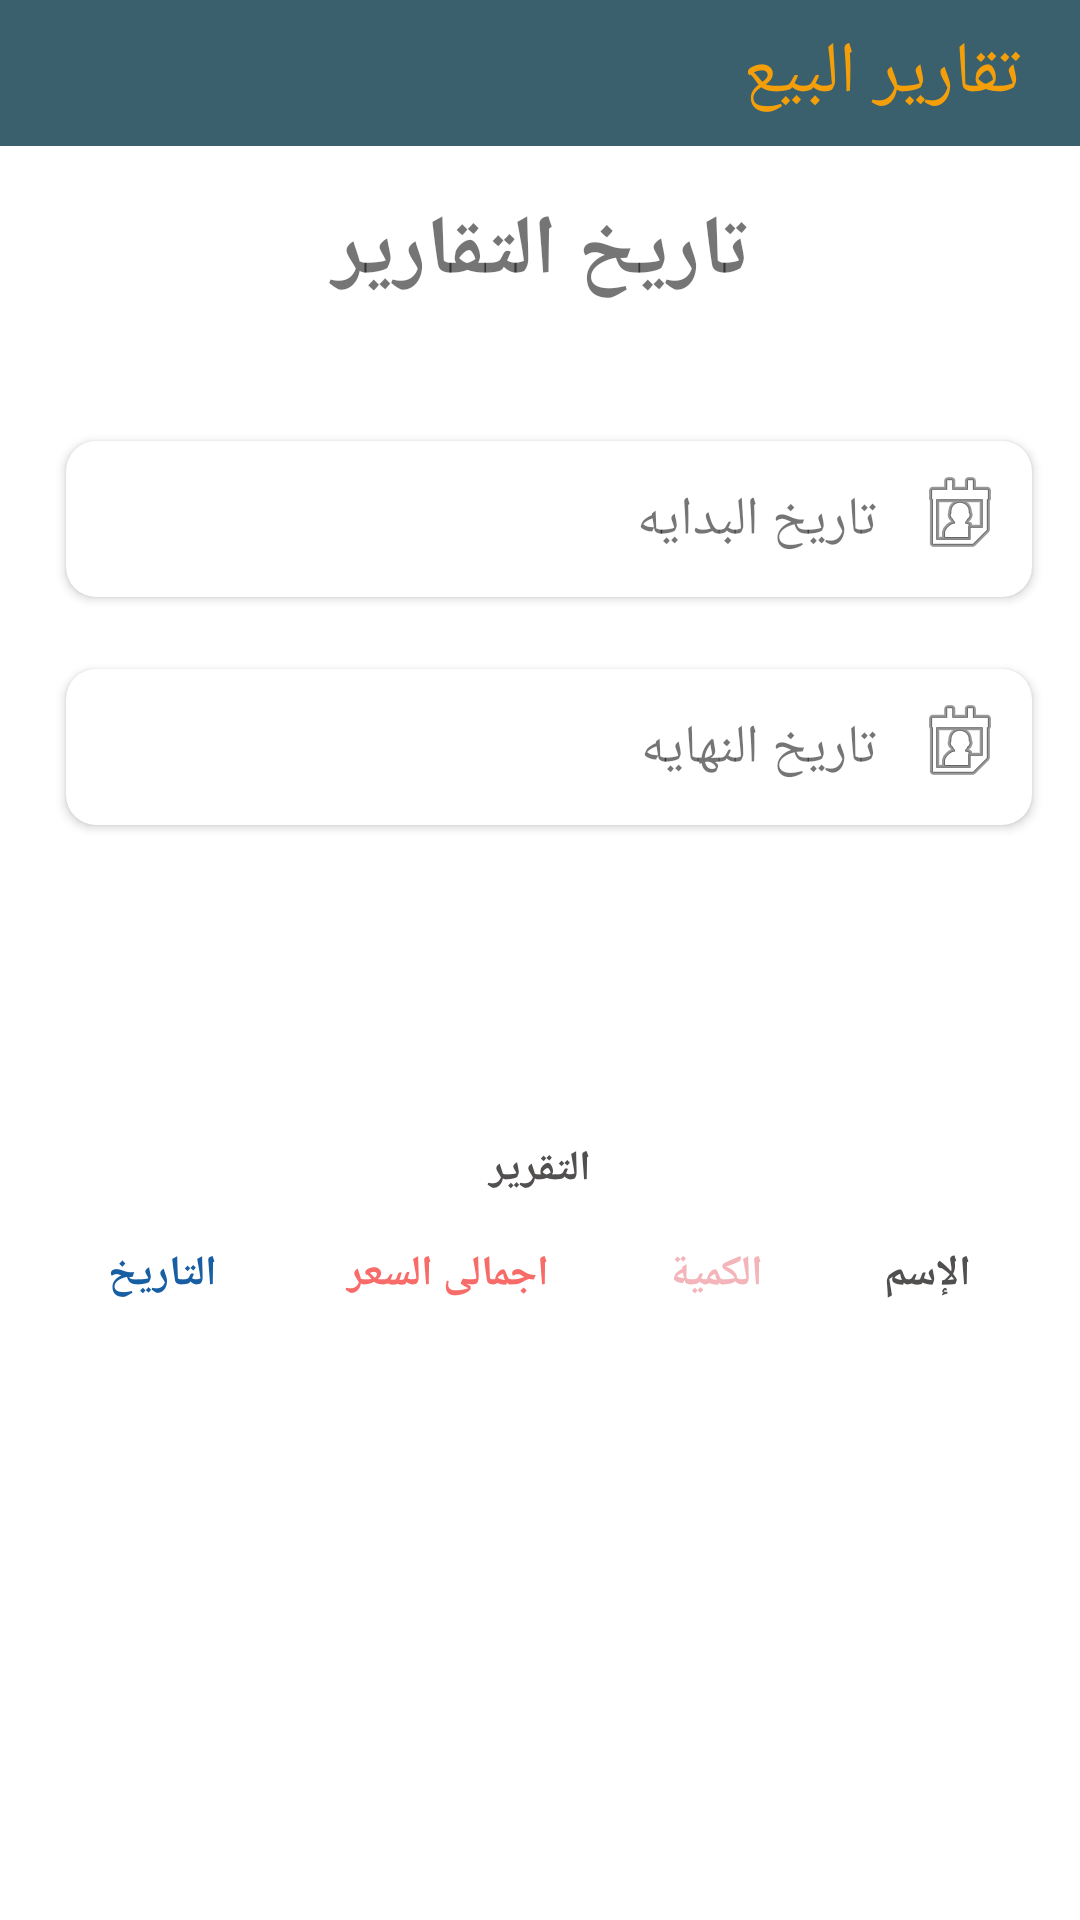

Named icons in this screenshot (1080×1920) and their centers, point (x, y):
calendar: point (960, 512), point (960, 740)
